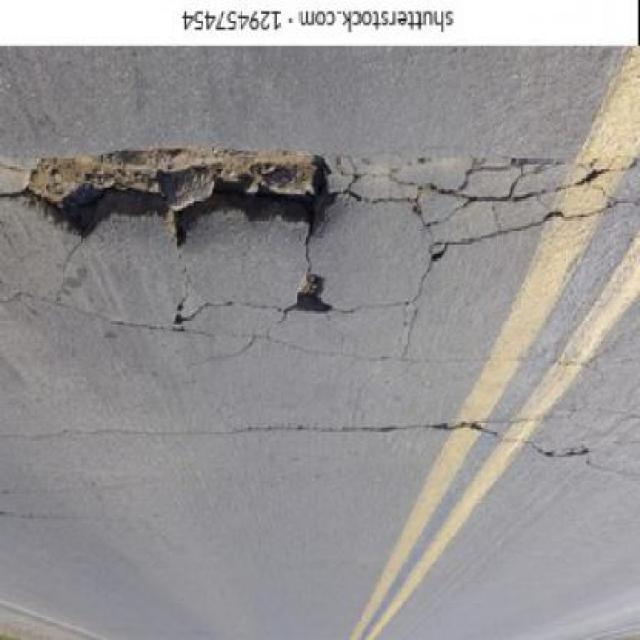Pothole: (16, 143, 342, 250)
